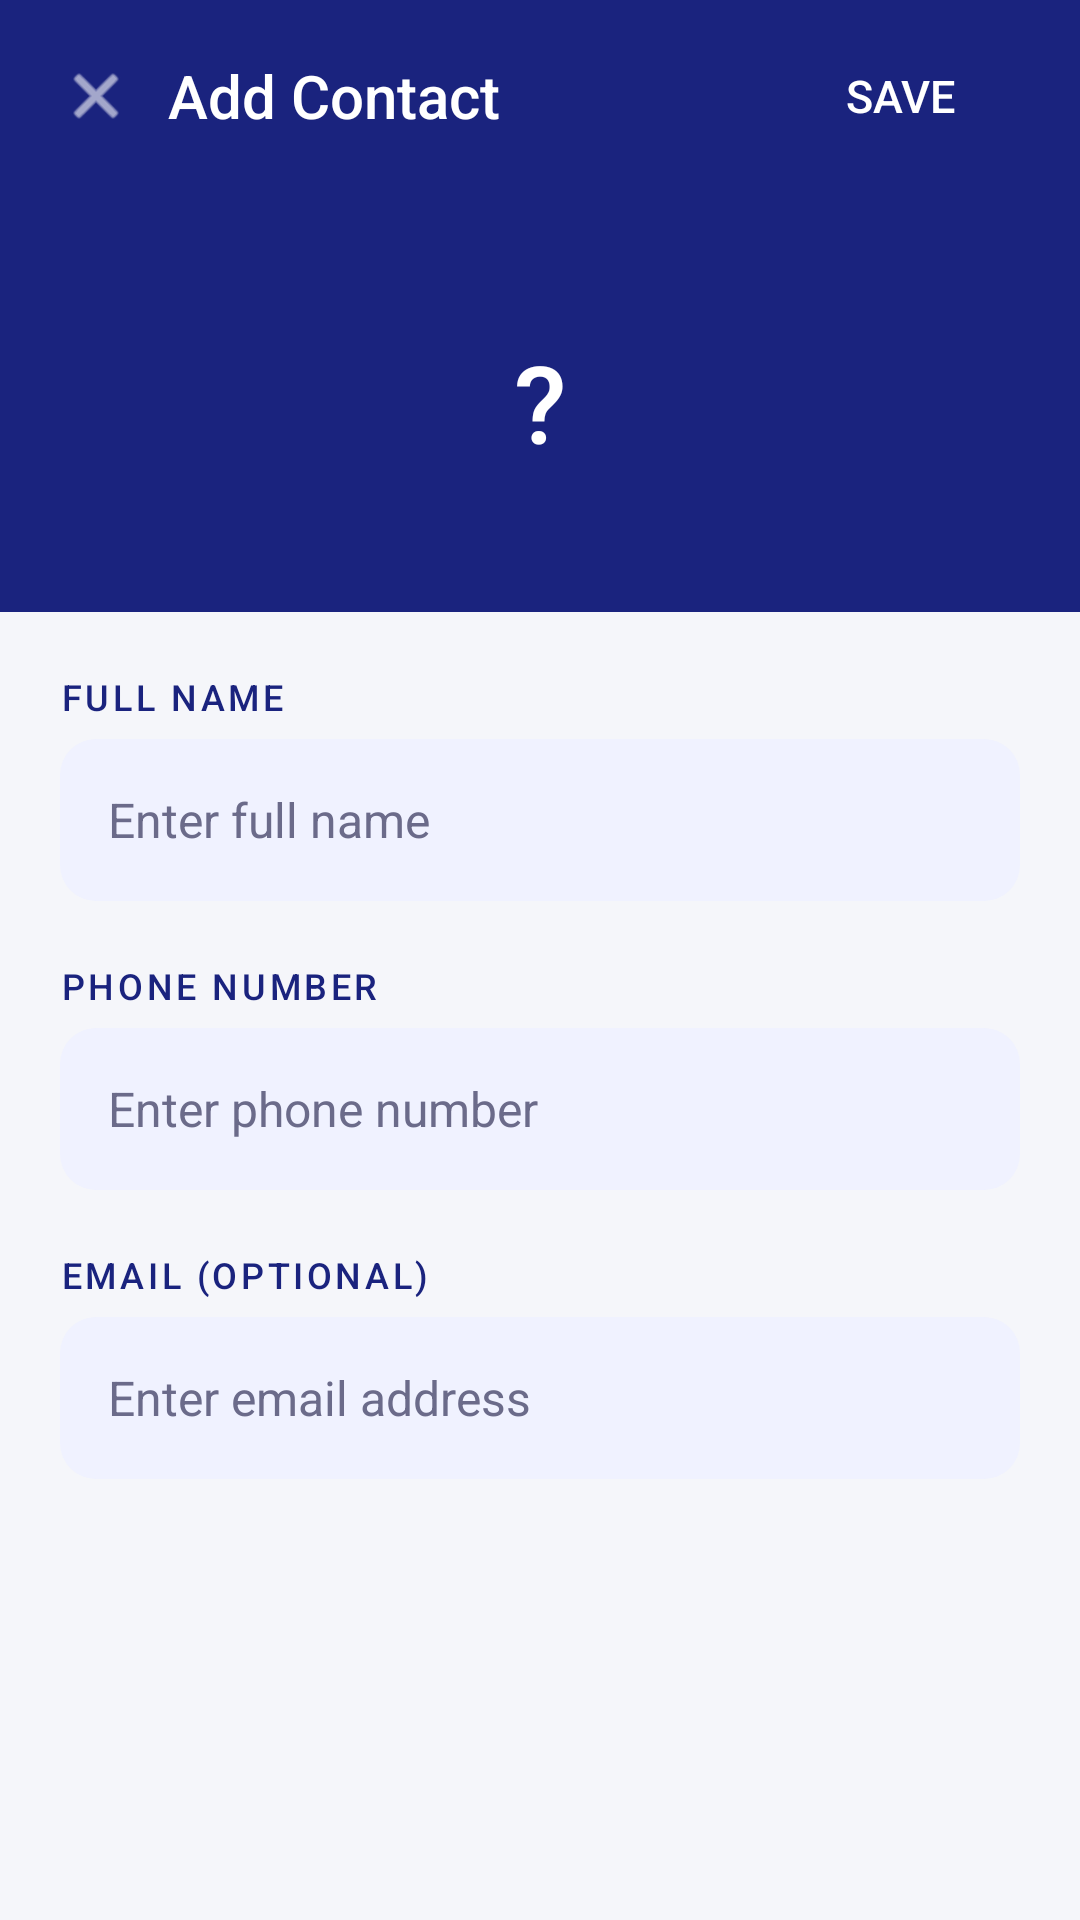

Icons on this 1080px x 1920px Android screen, each with the point to tap as (x=x, y=y):
close clear cancel: (x=96, y=96)
